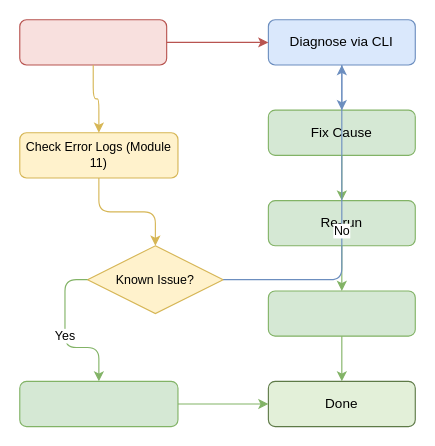
Image size: 435x446. Some labels were removed from this diagram. Each missing label, with the centre of its shape:
"Apply Known Fix" belongs at (x=98, y=403).
"Error Occurs" belongs at (x=93, y=42).
"Verify" belongs at (x=341, y=313).
